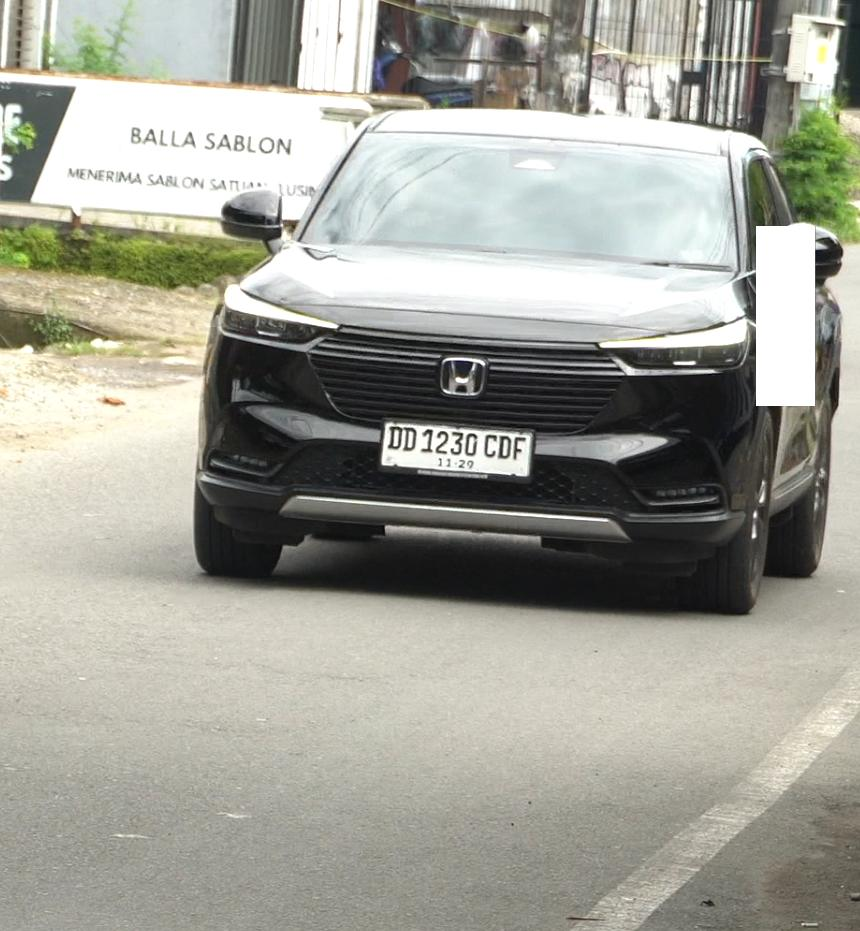number-plate: (378, 419, 536, 483)
